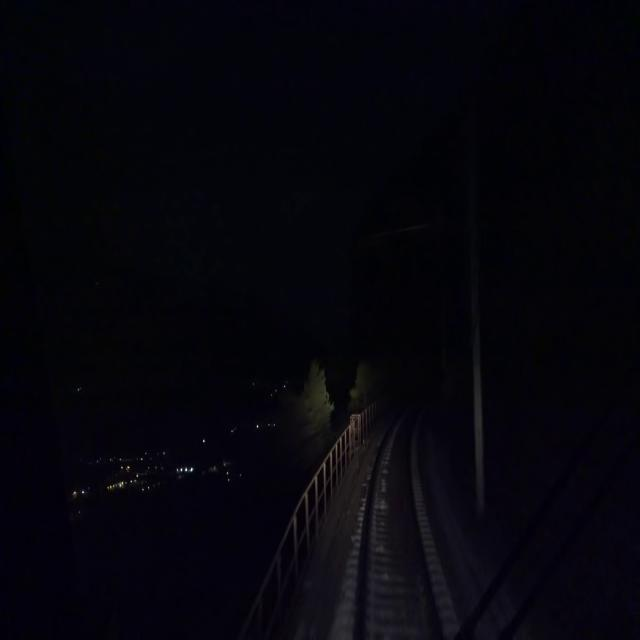rail-track: (363, 401, 439, 639)
